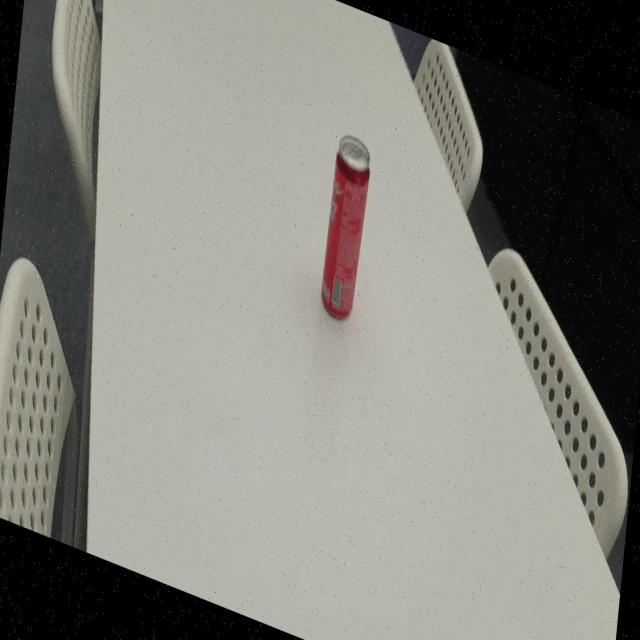coca-cola: (318, 126, 372, 329)
